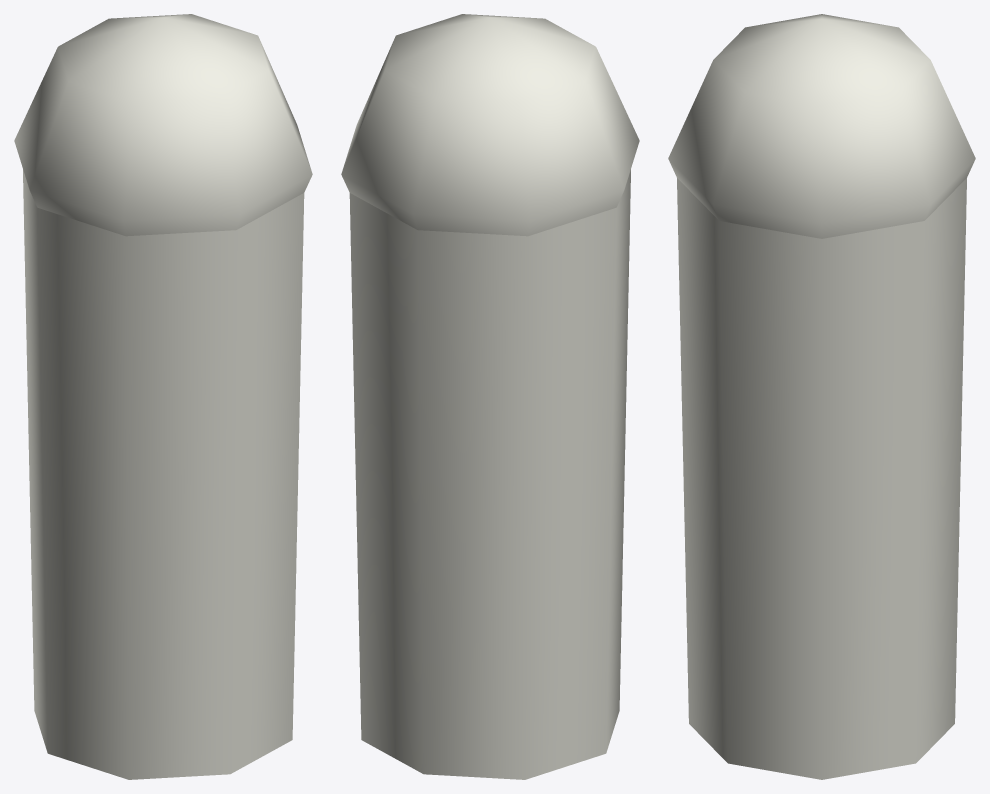
Rendered from PRezo_Brazo.obj.
3 renders of one model, left to right at view 1: azimuth 30°, elevation 25°; view 2: azimuth 150°, elevation 25°; view 3: azimuth 270°, elevation 25°, orthographic.
Visible parts, largest first — view 1: Brazo; view 2: Brazo; view 3: Brazo.
Part boxes in pixels (x1,y1,x2,y2): Brazo: (14, 14, 312, 779); Brazo: (341, 14, 639, 779); Brazo: (668, 14, 975, 779).
Size of the model in its own units: 0.074 by 0.187 by 0.074.
1 material, 1 textured.
